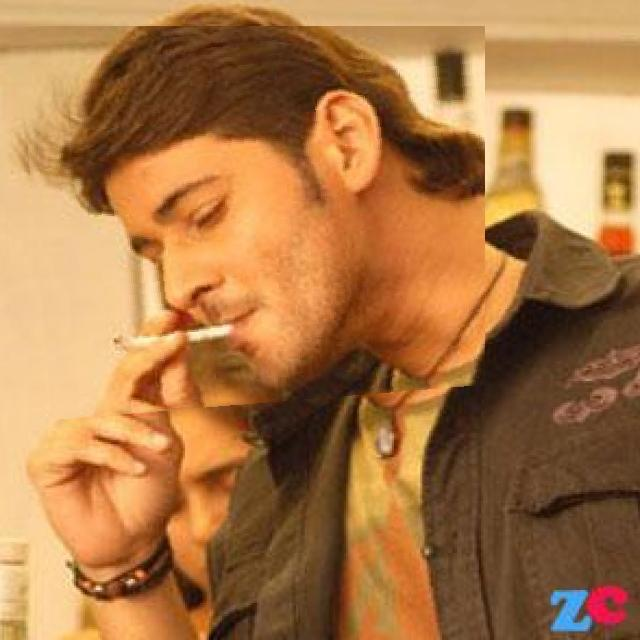cigarette: (74, 324, 218, 362)
